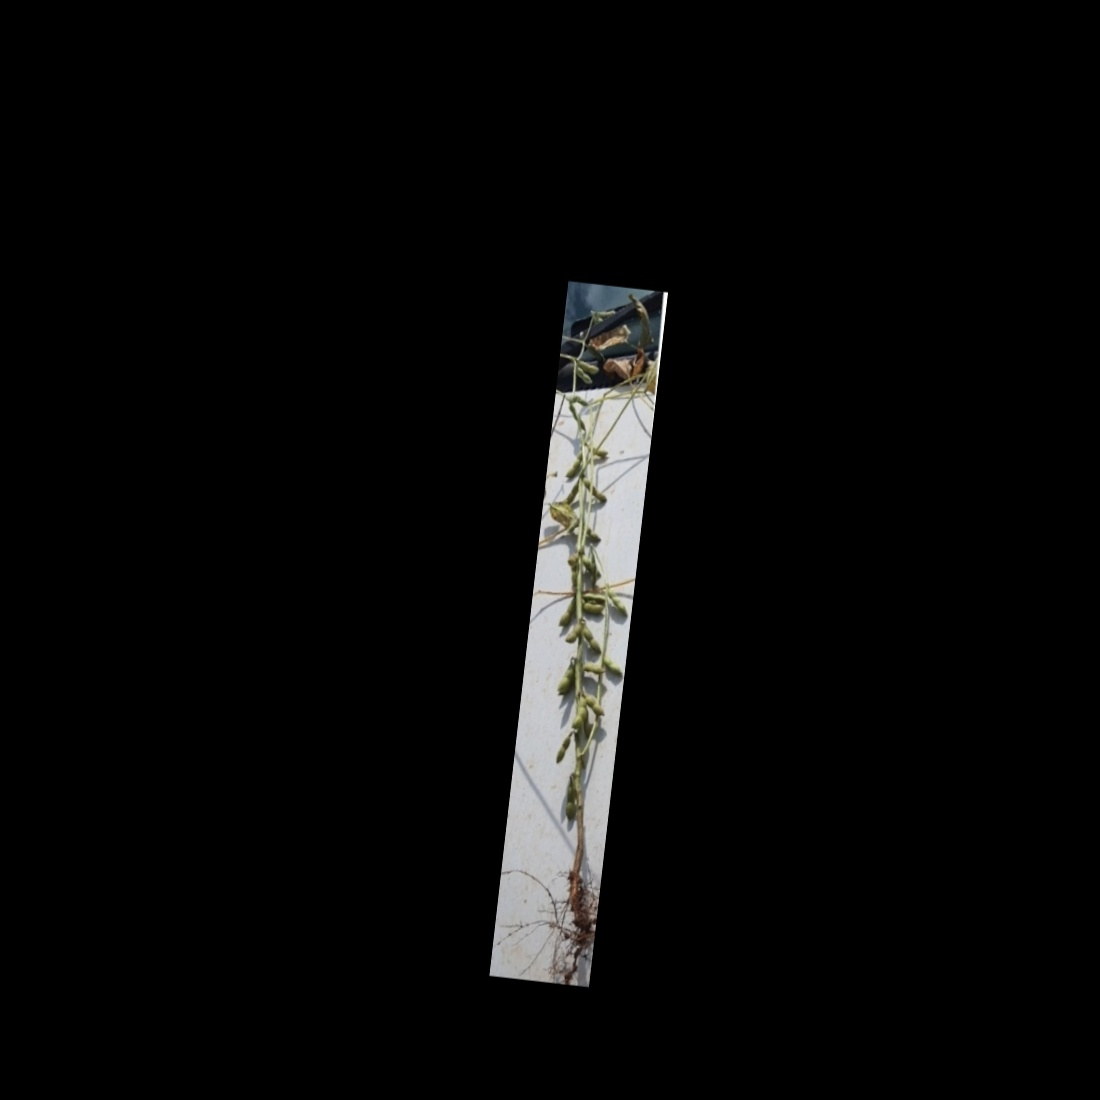pod: (576, 618, 605, 657), (559, 781, 579, 822), (604, 588, 631, 618), (582, 477, 610, 505), (584, 691, 609, 718), (571, 693, 589, 729), (557, 595, 576, 630), (562, 450, 582, 482), (553, 733, 571, 767), (602, 653, 624, 679), (579, 597, 606, 616), (577, 657, 605, 675), (562, 621, 581, 646), (576, 359, 601, 376), (573, 366, 593, 386), (562, 479, 578, 504)
soy: (502, 310, 663, 934)
